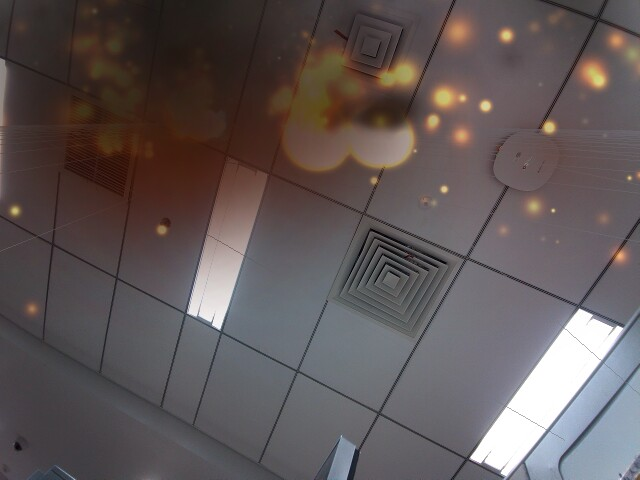fire: (348, 106, 418, 173), (280, 107, 349, 173), (163, 94, 222, 145)
